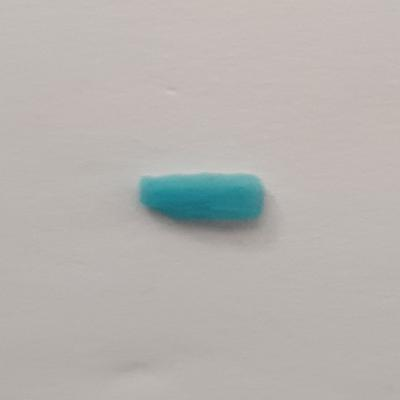plastic: (136, 166, 272, 235)
